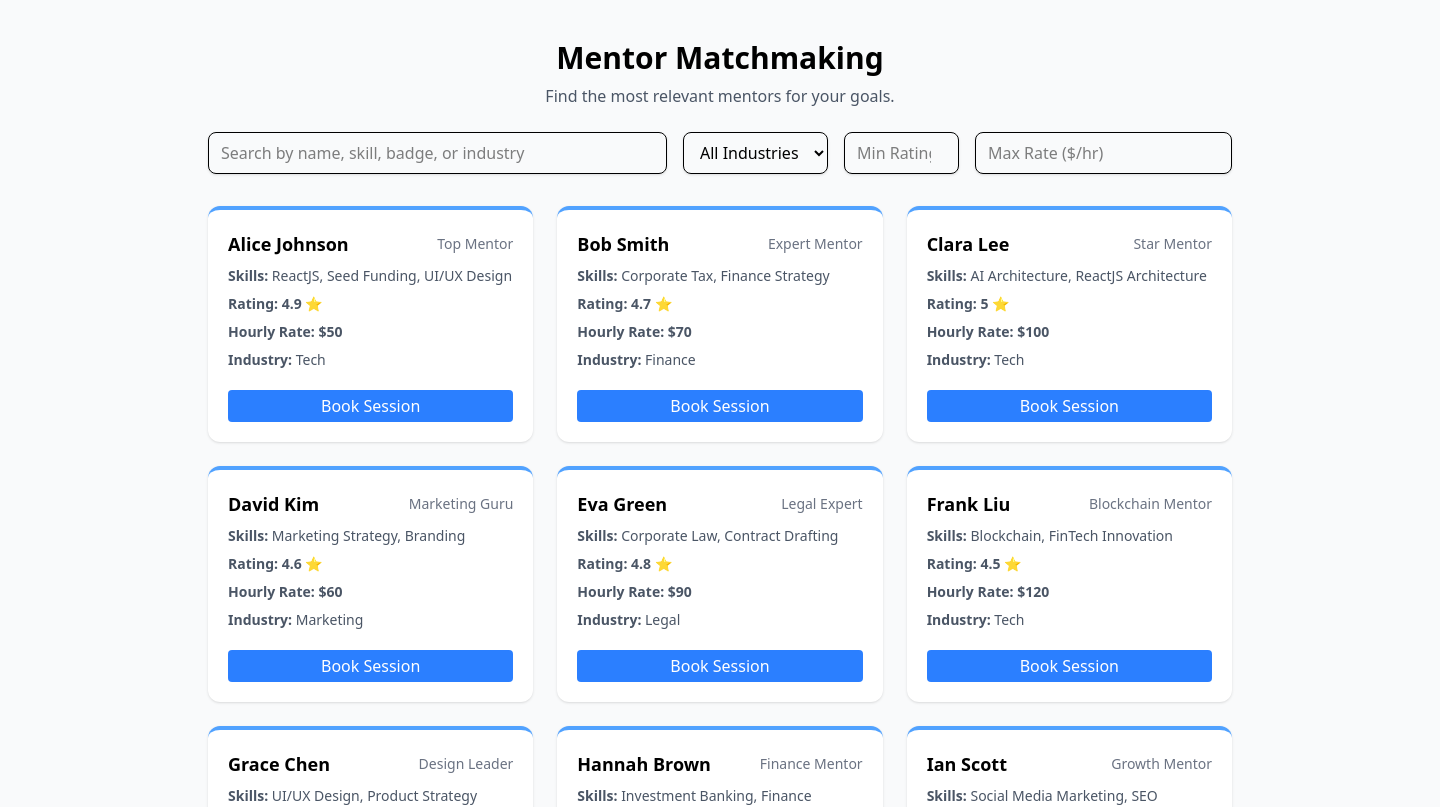
Test: MentorMatchmaking › should filter mentors by industry
Select "Legal" in the dropdown showing "All Industries" at (756, 153), box [683,132,828,174]
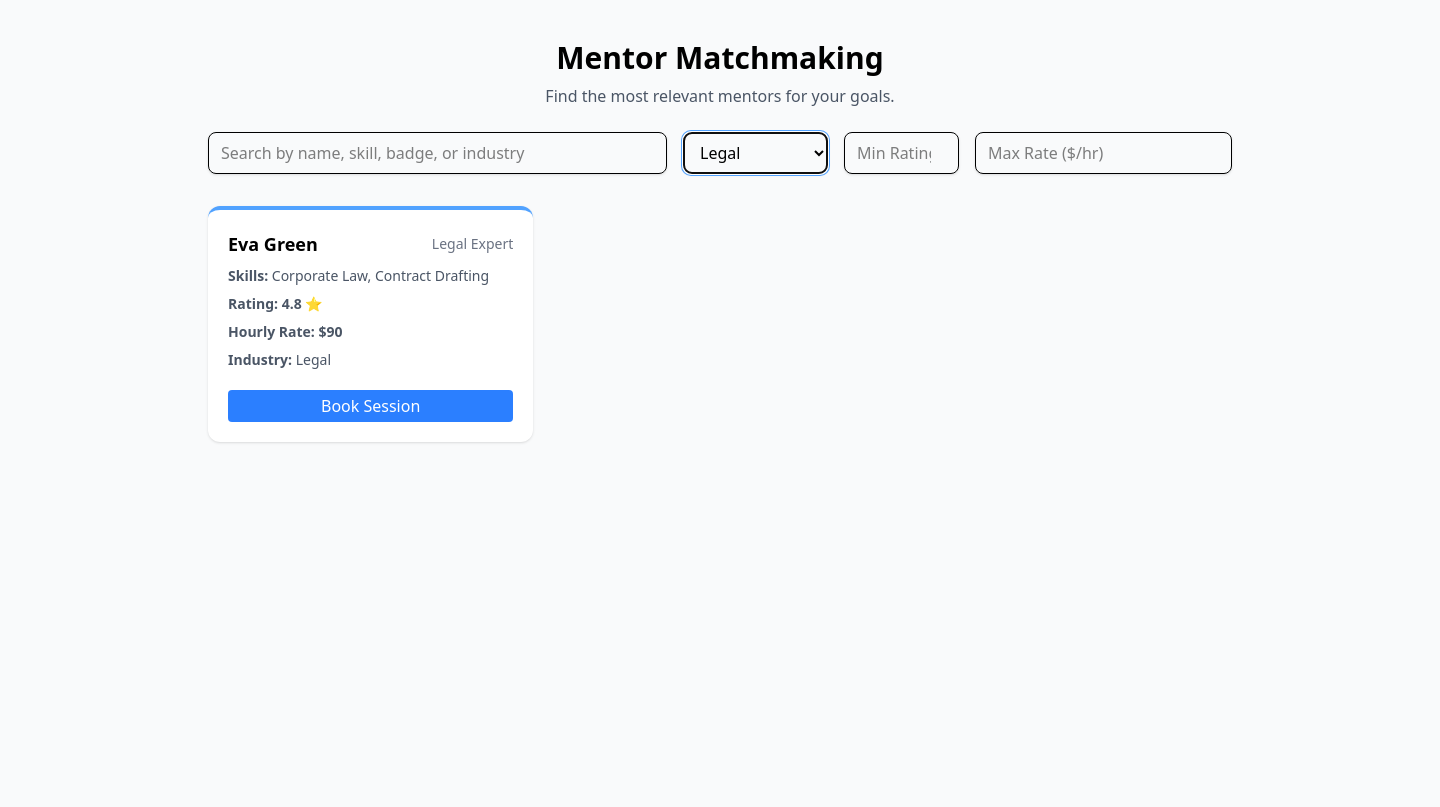
Expected: the heading "Eva Green" is shown, [228,230,318,258]
Expected: the heading "Alice Johnson" is gone
